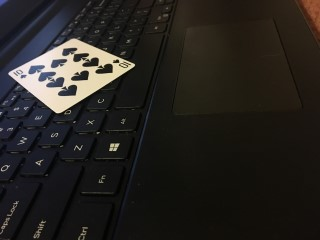TenOfSpades: (7, 38, 135, 115)
